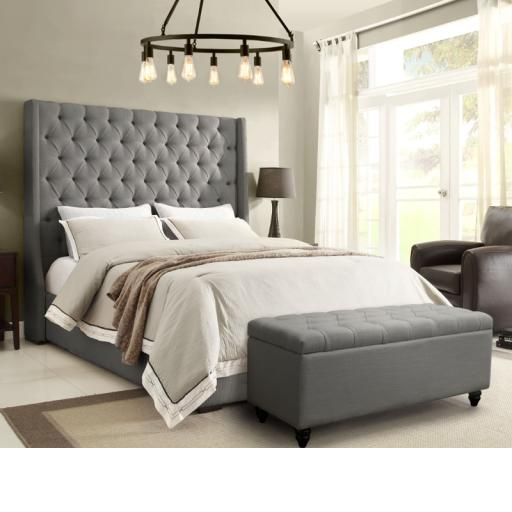bed: (22, 99, 452, 428)
sofa: (246, 303, 493, 448), (410, 205, 512, 331)
